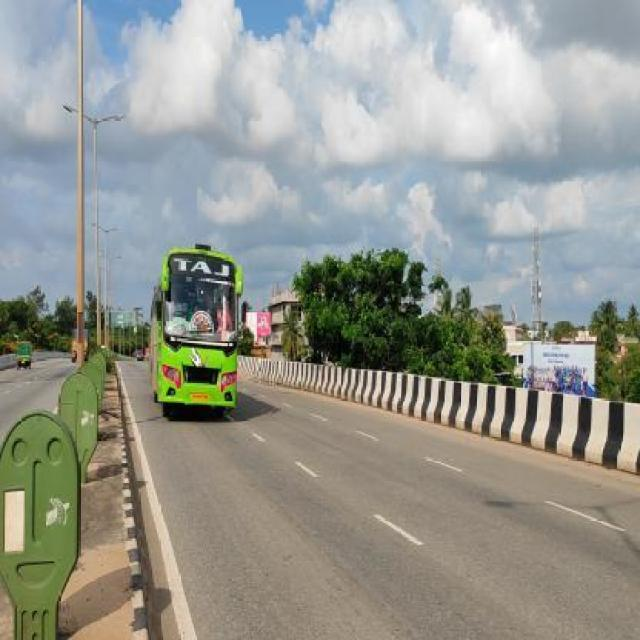bus: (150, 236, 246, 418)
